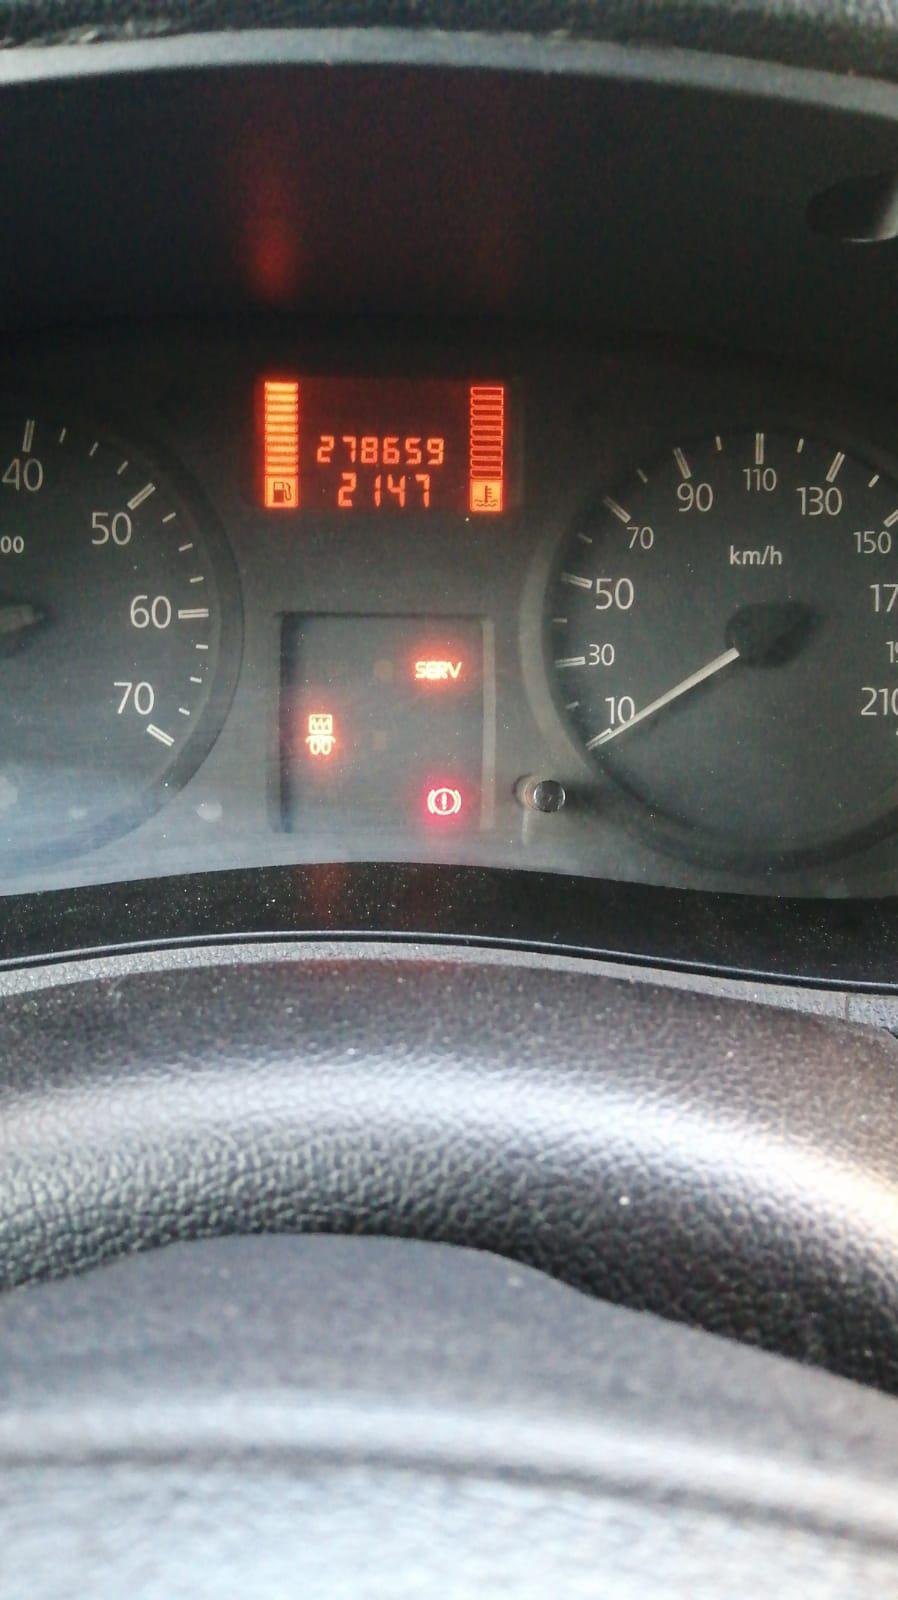1: (373, 473, 381, 505)
2: (336, 471, 357, 505), (315, 435, 335, 463)
4: (386, 473, 404, 507)
5: (404, 436, 422, 464)
6: (383, 436, 400, 464)
7: (414, 473, 431, 507), (341, 435, 357, 464)
8: (359, 436, 378, 464)
9: (425, 437, 444, 465)
odometer: (247, 367, 512, 516)
